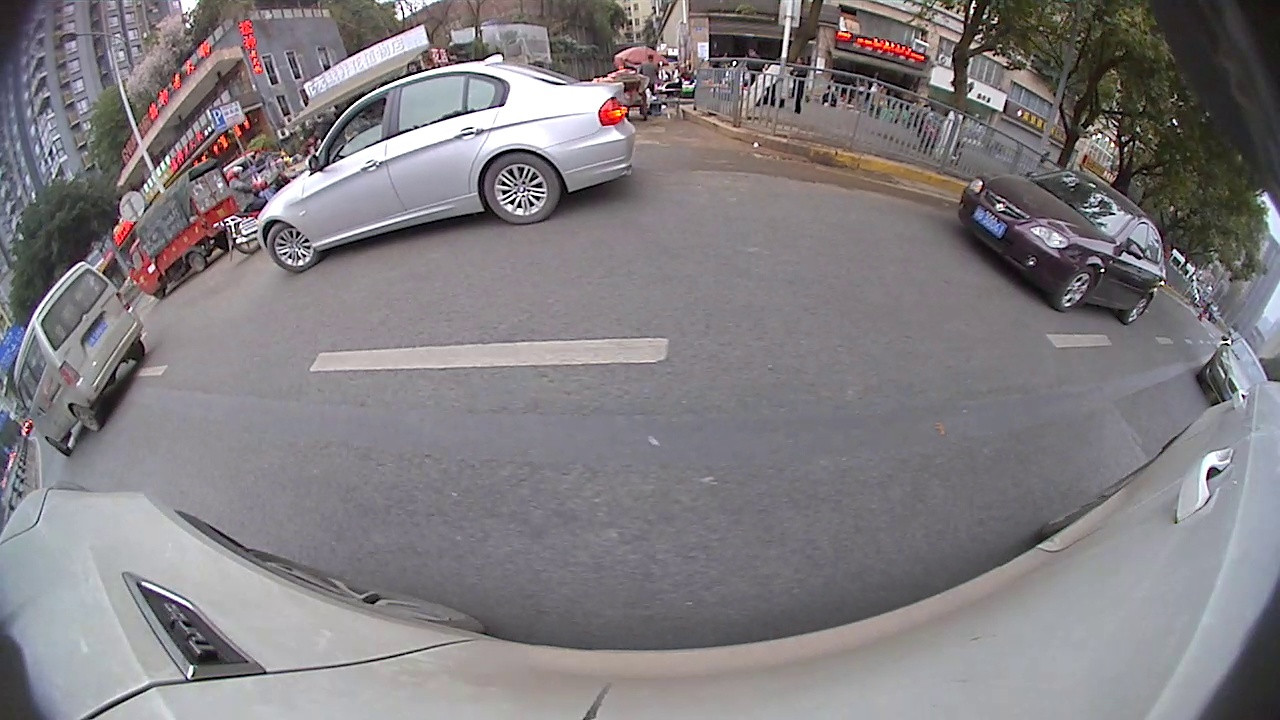car: (258, 47, 641, 278), (953, 167, 1166, 330), (7, 258, 149, 459), (1198, 331, 1272, 408)
front: (262, 225, 320, 272), (1055, 266, 1099, 309)
rear: (478, 155, 567, 225), (68, 396, 111, 436), (1128, 289, 1153, 325)
rider: (122, 149, 242, 304), (213, 156, 306, 258)
